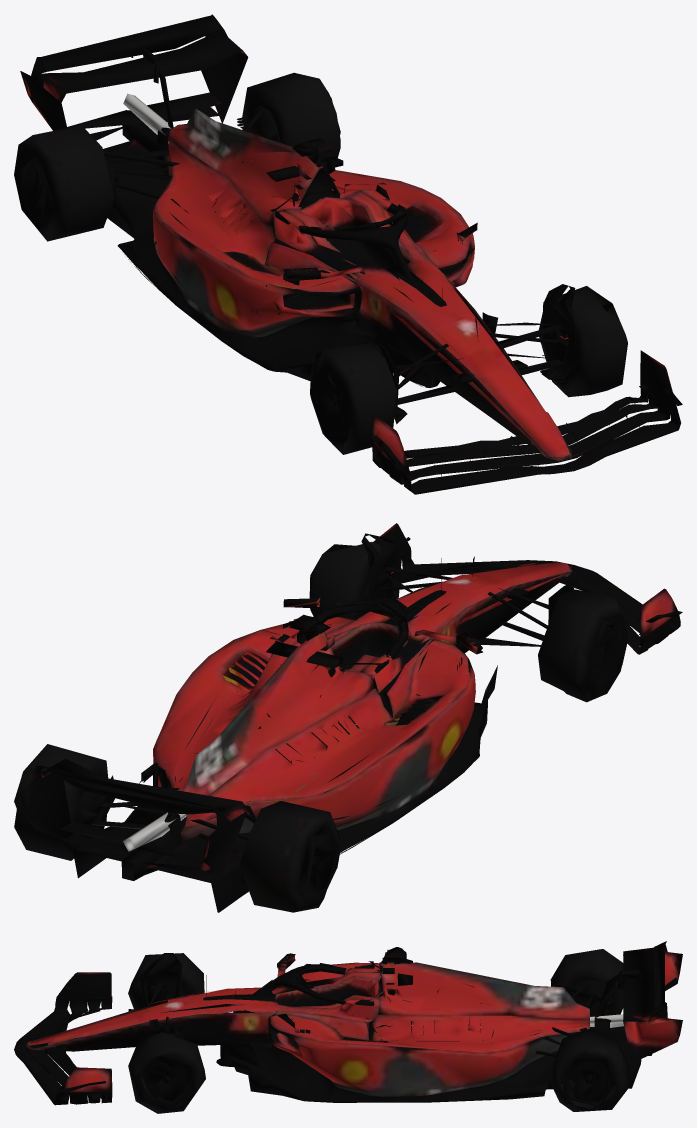
The picture shows the model from 3 angles, top to bottom: view 1: azimuth 30°, elevation 25°; view 2: azimuth 150°, elevation 25°; view 3: azimuth 270°, elevation 25°; orthographic projection. The views are drawn at different scales.
Parts seen in each view (by area): view 1: Object_7, Object_5, Object_8, Object_9, Object_6, Object_4, Object_10; view 2: Object_7, Object_5, Object_8, Object_9, Object_4, Object_6, Object_10; view 3: Object_7, Object_5, Object_8, Object_9, Object_6, Object_4, Object_10.
Part boxes in pixels (left/top/right/bottom): Object_7: left=103, top=56, right=571, bottom=461; Object_5: left=242, top=72, right=627, bottom=457; Object_8: left=104, top=122, right=570, bottom=485; Object_9: left=20, top=14, right=563, bottom=404; Object_6: left=131, top=48, right=682, bottom=494; Object_4: left=14, top=97, right=350, bottom=433; Object_10: left=103, top=109, right=577, bottom=424; Object_7: left=73, top=565, right=572, bottom=912; Object_5: left=14, top=541, right=628, bottom=860; Object_8: left=114, top=561, right=682, bottom=912; Object_9: left=19, top=556, right=548, bottom=877; Object_4: left=14, top=619, right=622, bottom=912; Object_6: left=131, top=523, right=680, bottom=837; Object_10: left=81, top=533, right=574, bottom=883; Object_7: left=26, top=962, right=655, bottom=1102; Object_5: left=27, top=953, right=629, bottom=1113; Object_8: left=26, top=950, right=624, bottom=1101; Object_9: left=149, top=941, right=682, bottom=1075; Object_6: left=14, top=953, right=625, bottom=1105; Object_4: left=142, top=949, right=623, bottom=1107; Object_10: left=139, top=953, right=614, bottom=1056.
Size of the model in its own units: 1.73 by 0.9396 by 4.82.
Materials: 1 (1 with a texture image).
